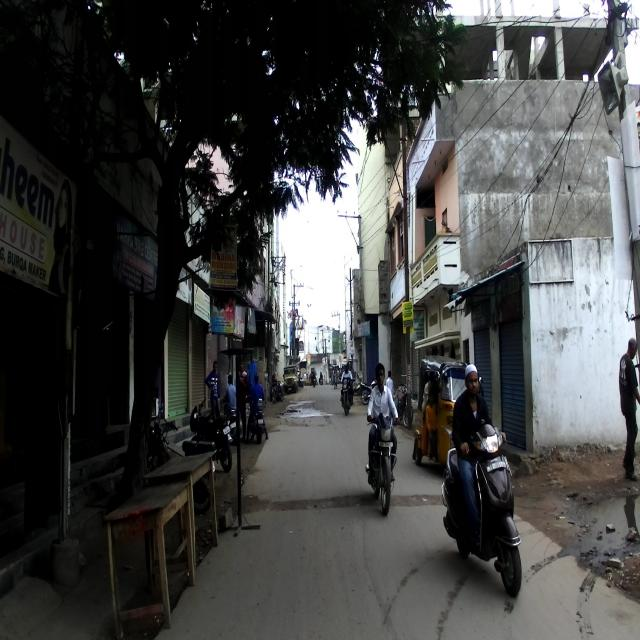autorickshaw: (412, 355, 483, 472)
motorcycle_TVS: (143, 397, 216, 515)
motorcycle_bajaj: (364, 411, 403, 516), (187, 397, 233, 474)
scooter: (440, 423, 522, 597)
